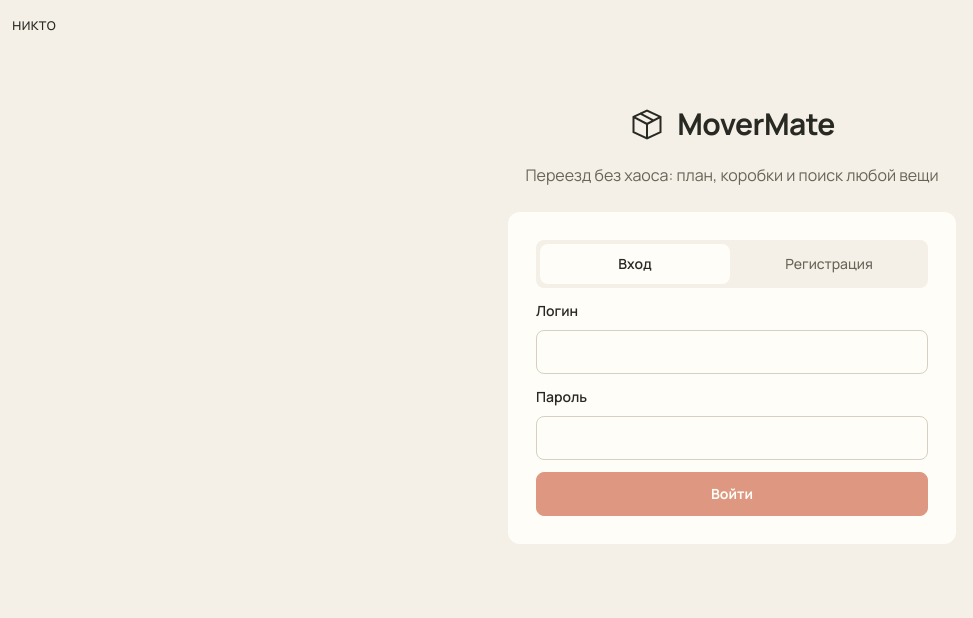
Test: вход и регистрация › неверный пароль показывает ошибку сервера
This screenshot has width=973, height=618.
Expected: the text with test id "who" reads "никто", [12,13,56,35]
Type "anna" into the field labelled "Логин". click: (732, 352)
box: [536,330,928,374]
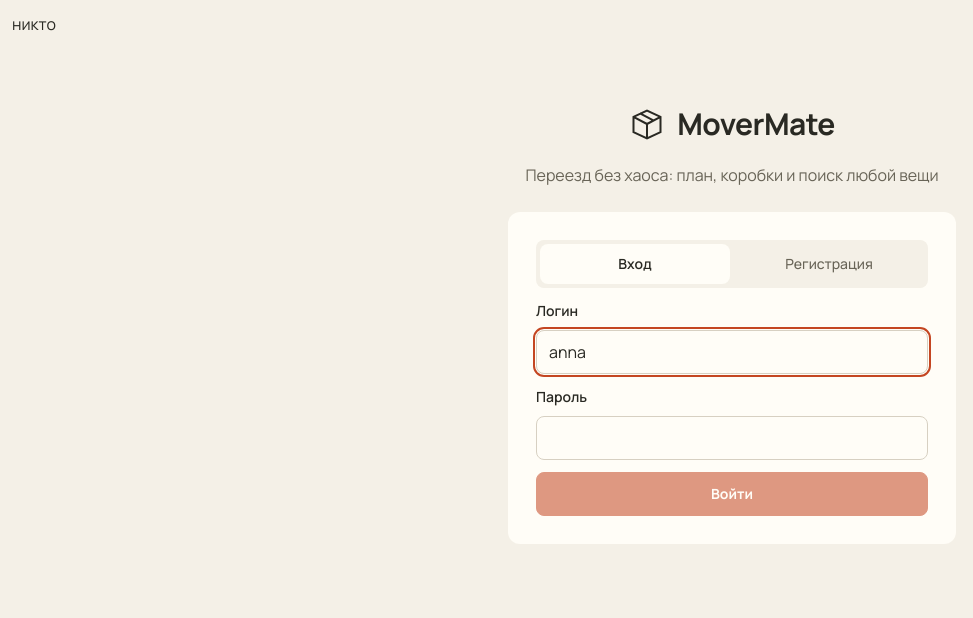
Type "не-тот" into the password field labelled "Пароль". click: (732, 438)
box: [536,416,928,460]
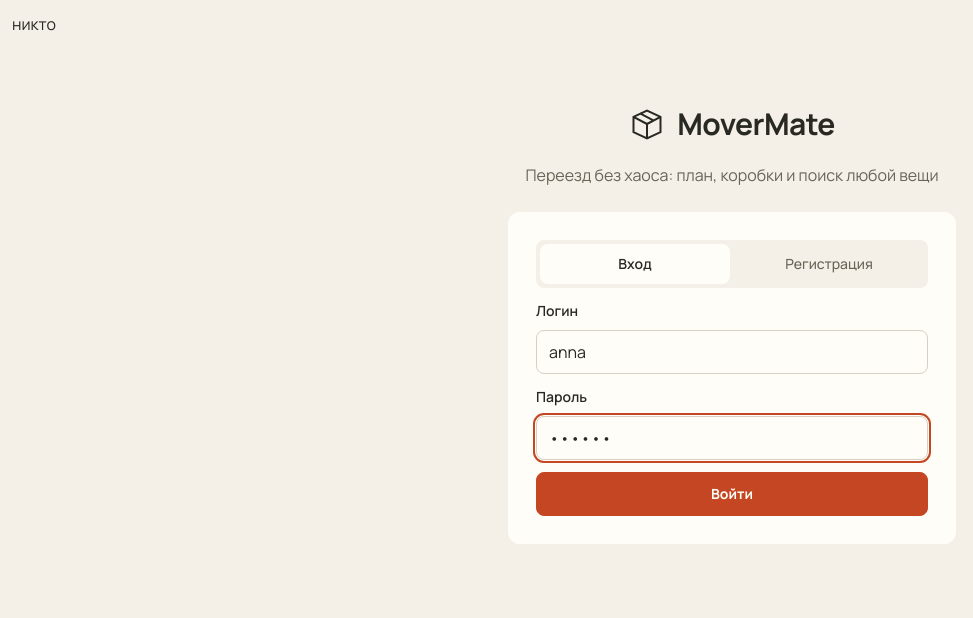
Click the button "Войти". click: click(732, 494)
box: [536,472,928,516]
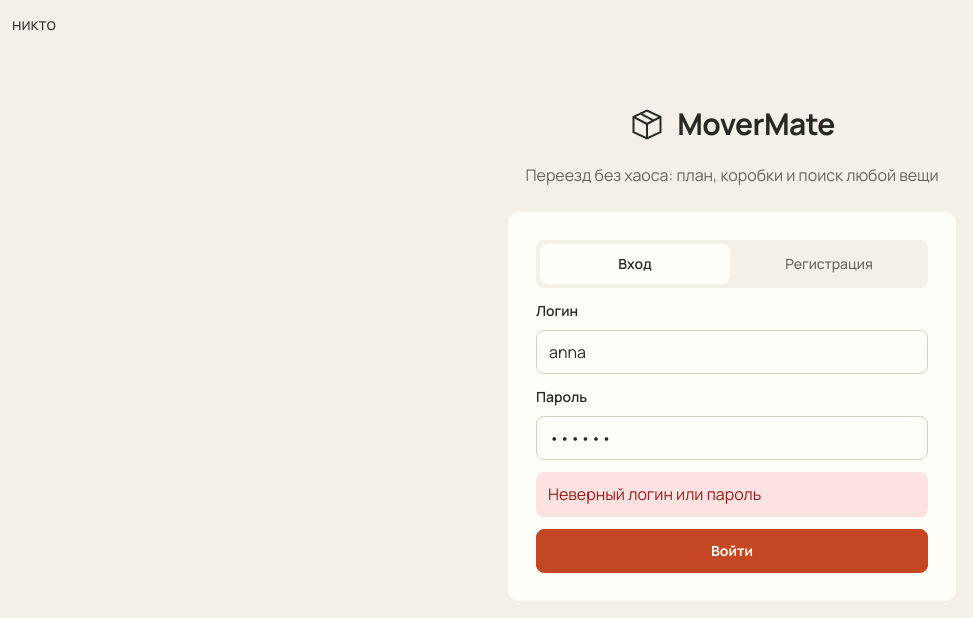
Result: the message reads "Неверный логин или пароль" at [548,483,761,505]
